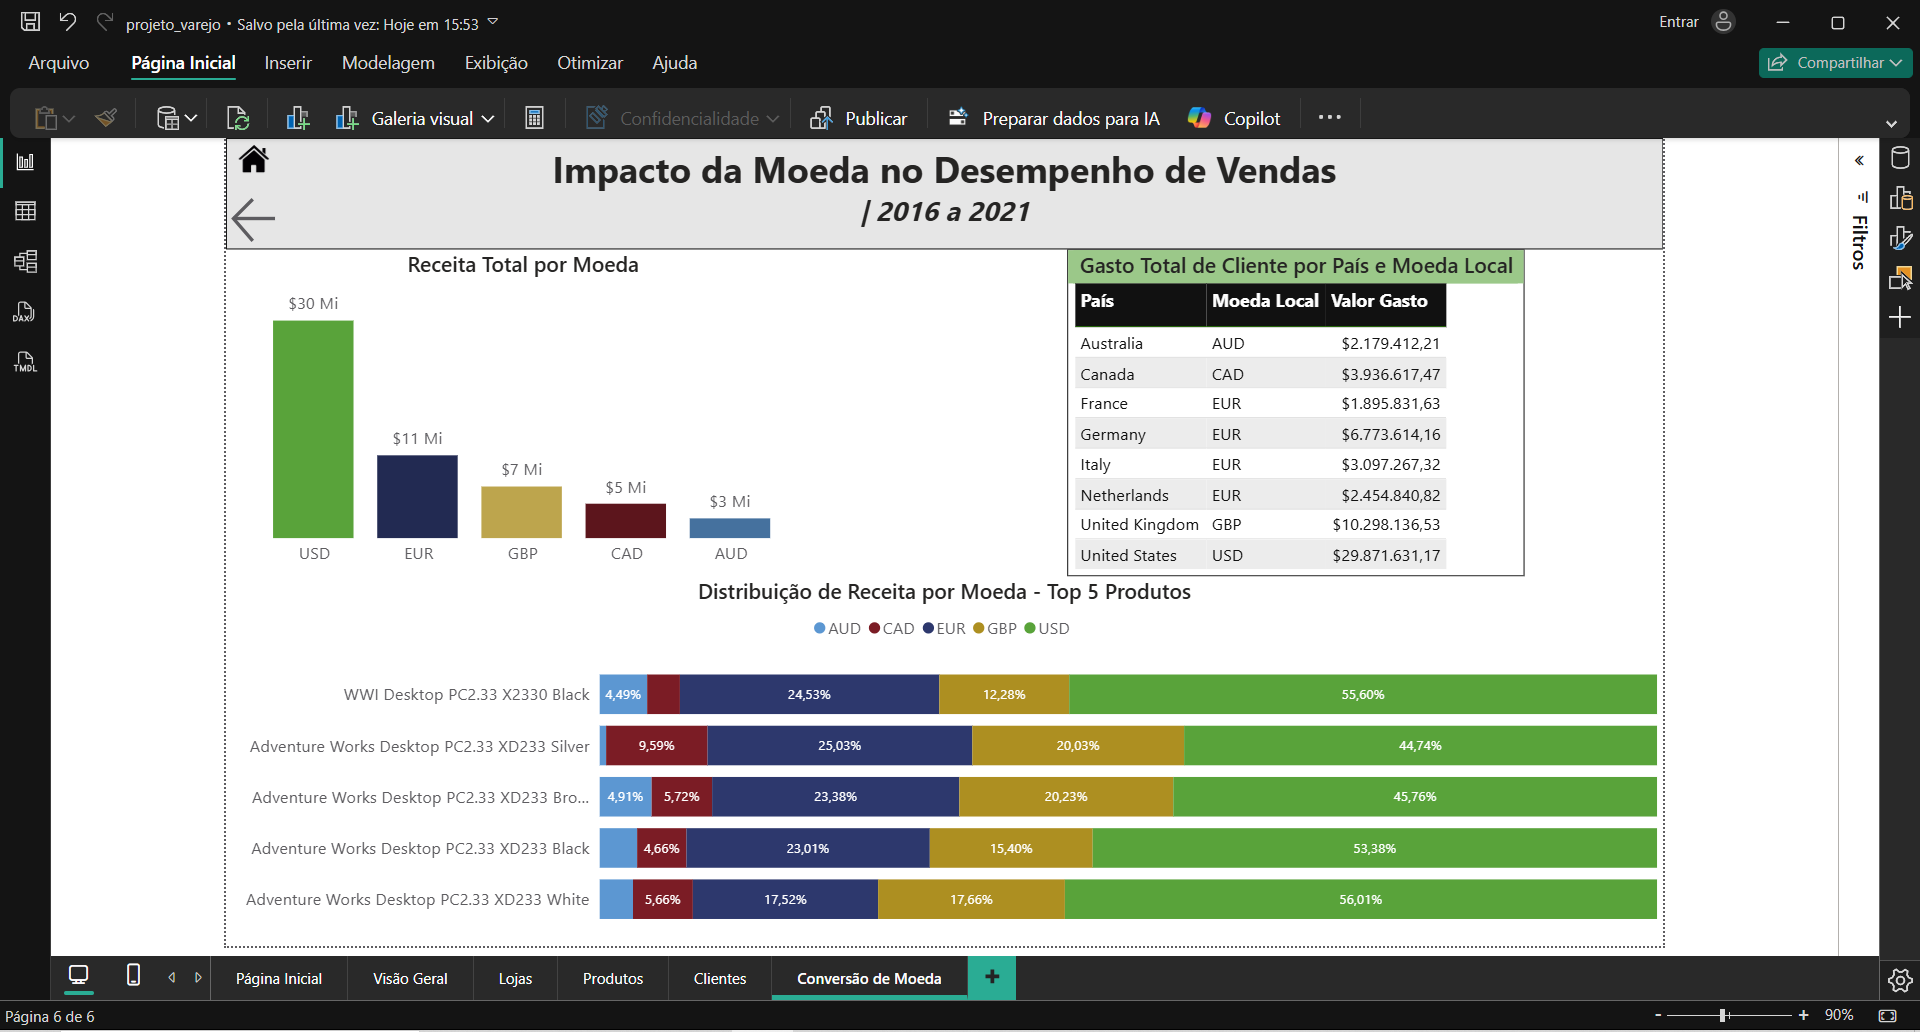

The dashboard page shown, as its layout file describes it:
{"tool":"powerbi","page":{"name":"Conversão de Moeda","canvas":[1280,720],"ordinal":5},"visuals":[{"type":"tableEx","title":"Gasto Total de Cliente por País e Moeda Local","fields":{"Values":["dClientes.pais","fVendas.id_moeda","Sum(fVendas.preco_local)"]},"box":[748.8,99.6,406.9,291.4],"z":0},{"type":"hundredPercentStackedBarChart","title":"Distribuição de Receita por Moeda - Top 5 Produtos","fields":{"Y":["Sum(fVendas.preco_local)"],"Category":["dProdutos.nome_produto"],"Series":["fVendas.id_moeda"]},"box":[0,391,1279.7,328.9],"z":1000},{"type":"columnChart","title":"Receita Total por Moeda","fields":{"Category":["fVendas.id_moeda"],"Y":["Medidas.receita_total_USD"]},"box":[0,99.6,529.5,291.4],"z":2000},{"type":"textbox","box":[0,0,1280,99.6],"z":2001},{"type":"actionButton","box":[0,47.9,52.8,50.3],"z":2002},{"type":"image","box":[0,0,50.3,36.8],"z":2003}]}

Visuals, with their boxes on the page's 1280x720 design canvas (x1, y1, x2, y2). These are canvas units, not pixel positions in the 1920x1032 screenshot, which may show the page scaled, cropped or inside an application window:
"Gasto Total de Cliente por País e Moeda Local" tableEx: Rect(749, 100, 1156, 391)
"Distribuição de Receita por Moeda - Top 5 Produtos" hundredPercentStackedBarChart: Rect(0, 391, 1280, 720)
"Receita Total por Moeda" columnChart: Rect(0, 100, 530, 391)
textbox: Rect(0, 0, 1280, 100)
actionButton: Rect(0, 48, 53, 98)
image: Rect(0, 0, 50, 37)
